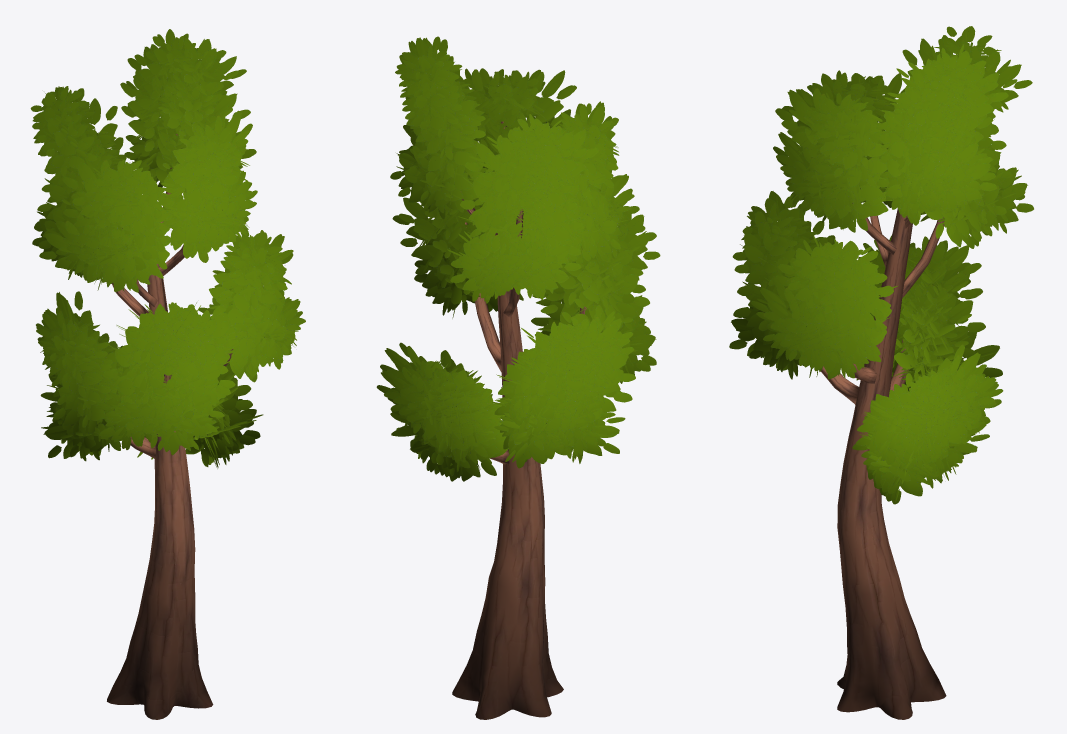
File: oak_3.glb
3 views of the same model, side by side, from view 1: azimuth 30°, elevation 25°; view 2: azimuth 150°, elevation 25°; view 3: azimuth 270°, elevation 25° (orthographic). The views are drawn at different scales.
Visible parts, largest first — view 1: CommonTree_3; view 2: CommonTree_3; view 3: CommonTree_3.
Part boxes in pixels (left/top/right/bottom): CommonTree_3: left=30, top=29, right=305, bottom=719; CommonTree_3: left=376, top=36, right=660, bottom=719; CommonTree_3: left=729, top=26, right=1033, bottom=719.
Bounding box in the file's own units: 4.06 × 9.43 × 4.24.
Materials: 2 (2 with a texture image).
